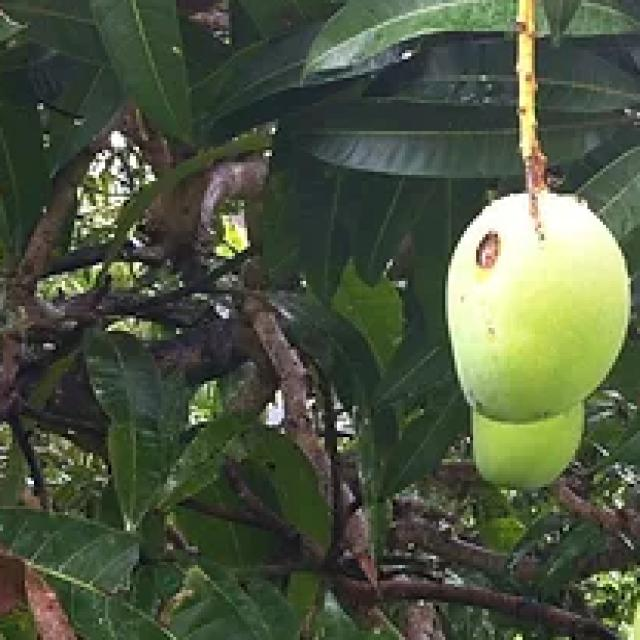Fruit-Stem-Detection: (517, 0, 542, 233)
